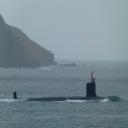submarine: (14, 82, 111, 102)
